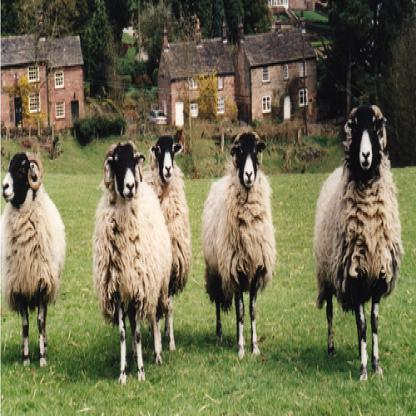sheep: (313, 104, 403, 383), (92, 140, 172, 384), (199, 130, 278, 363), (0, 150, 68, 368), (143, 134, 194, 352)
